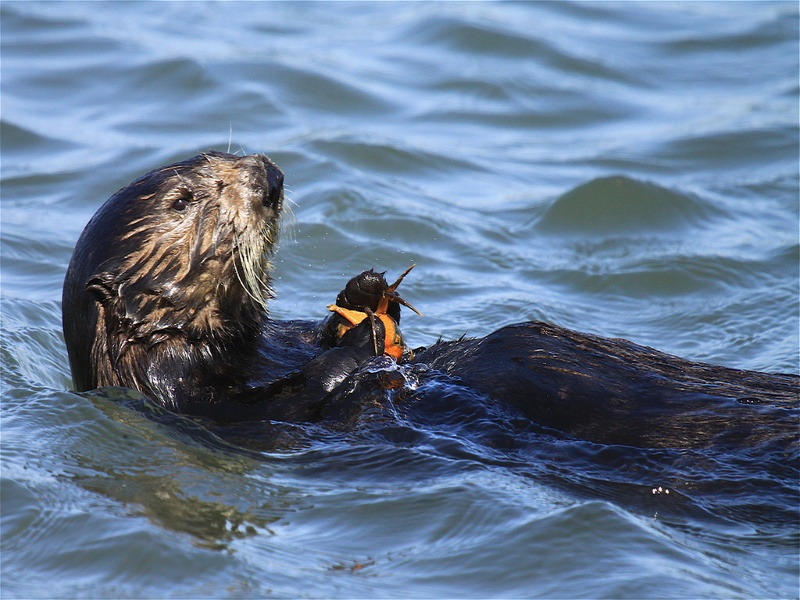minkish: (56, 146, 794, 492)
